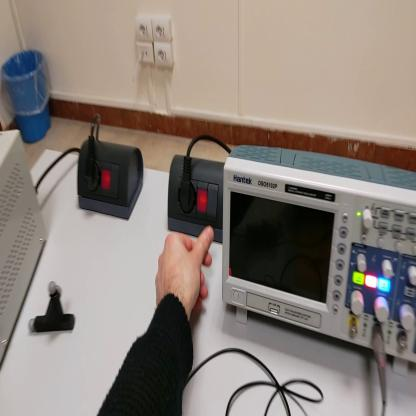hand: (154, 226, 214, 317)
oscilloscope: (222, 141, 416, 371)
power supply: (2, 130, 47, 372)
socket: (78, 139, 145, 222), (167, 153, 225, 246)
